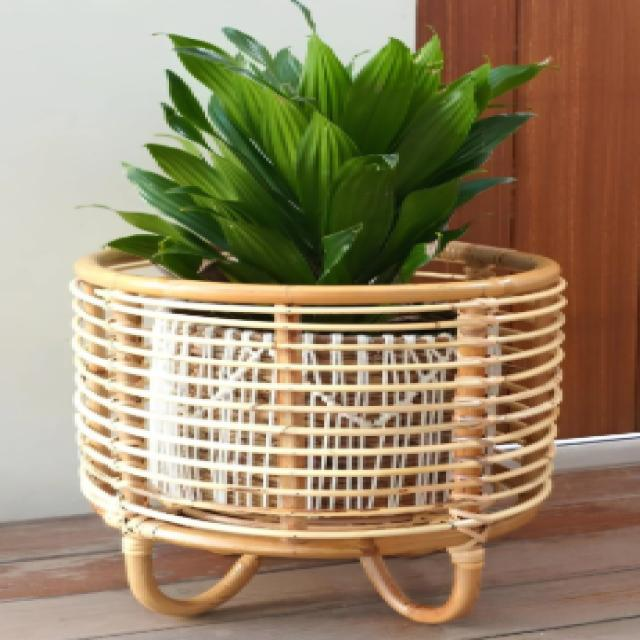Plant Pot: (52, 224, 605, 632)
